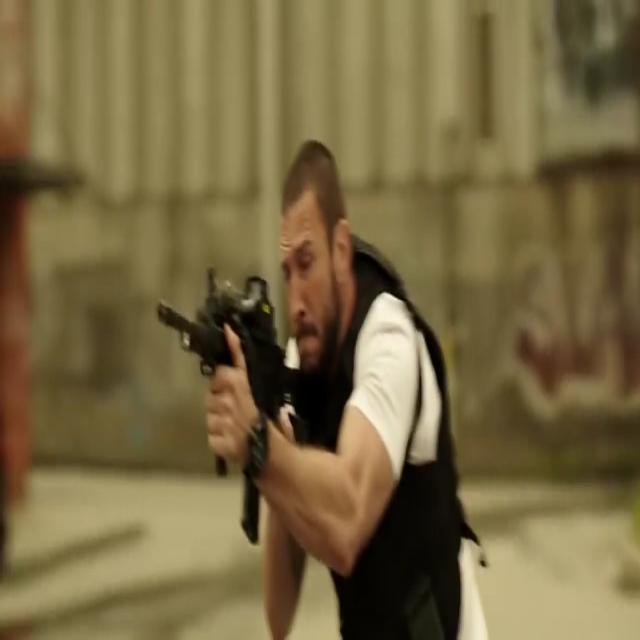Weapon: (166, 258, 310, 549)
